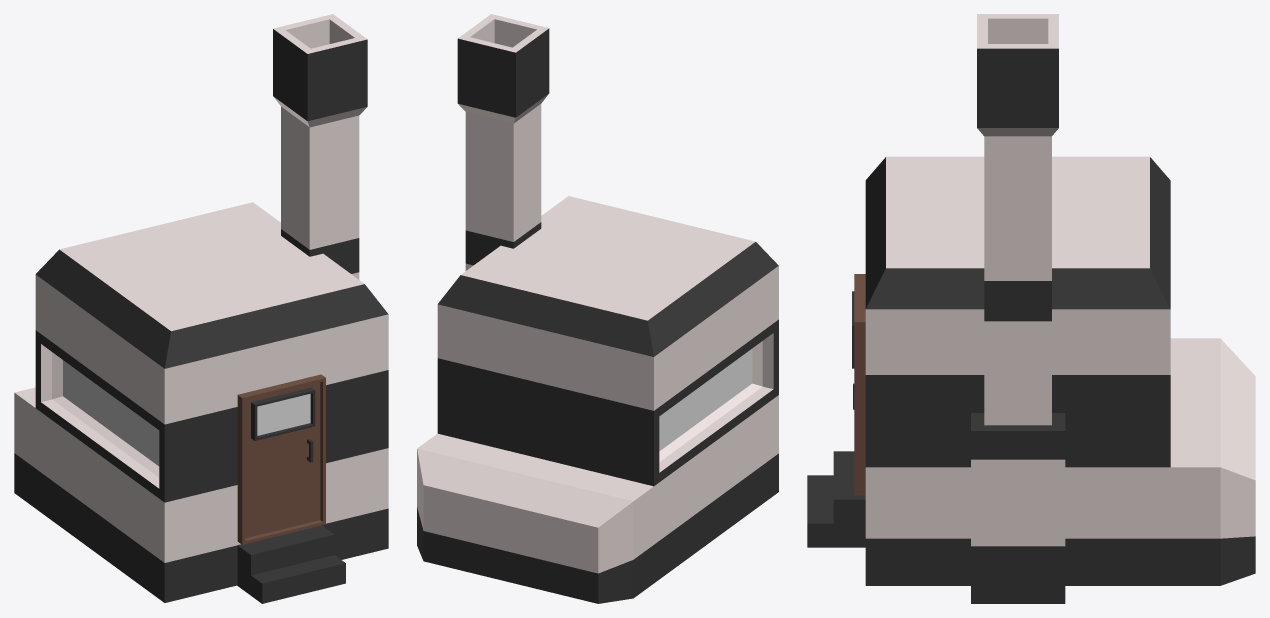
Rendered from VillageHouse_A.fbx.
The picture shows the model from 3 angles, left to right: view 1: azimuth 30°, elevation 25°; view 2: azimuth 150°, elevation 25°; view 3: azimuth 270°, elevation 25°; orthographic projection. The views are drawn at different scales.
Parts seen in each view (by area): view 1: Cube.014, Cube, Cube.006, Cube.010, Cube.007; view 2: Cube.014, Cube; view 3: Cube.014, Cube, Cube.005, Cube.010, Cube.006.
Boxes of the visible parts, box(x1,y1,x2,y2) form: Cube.014: box(14, 202, 388, 602); Cube: box(273, 14, 367, 279); Cube.006: box(237, 374, 325, 544); Cube.010: box(237, 525, 345, 603); Cube.007: box(251, 387, 315, 440); Cube.014: box(417, 196, 778, 603); Cube: box(457, 14, 549, 270); Cube.014: box(865, 156, 1255, 585); Cube: box(977, 14, 1058, 425); Cube.005: box(971, 413, 1065, 603); Cube.010: box(807, 451, 865, 547); Cube.006: box(854, 274, 865, 495).
Size of the model in its own units: 1958 by 3442 by 2529.
